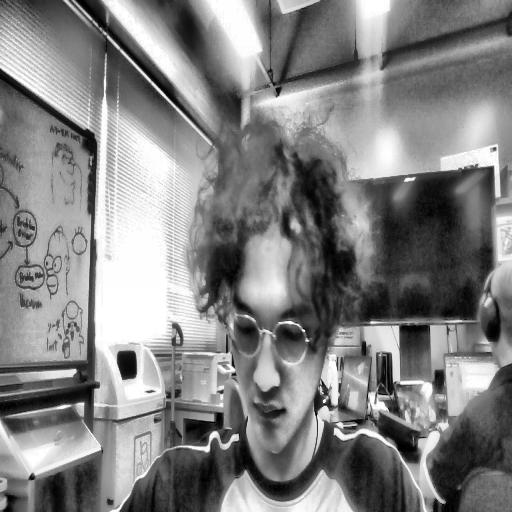Daifuku: (172, 100, 376, 458)
Not Daifuku: (475, 249, 512, 376)
